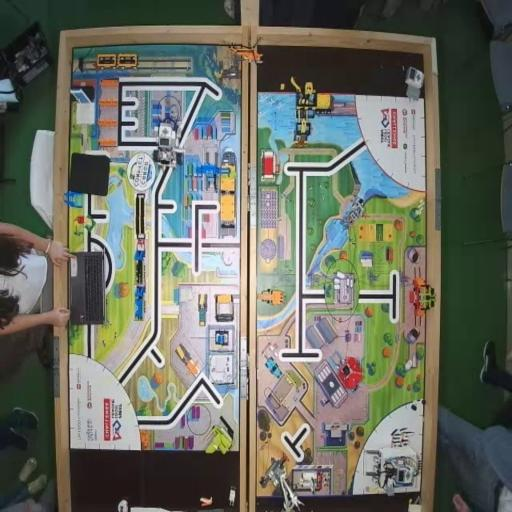lego_robot: (364, 450, 420, 496), (152, 116, 184, 170)
